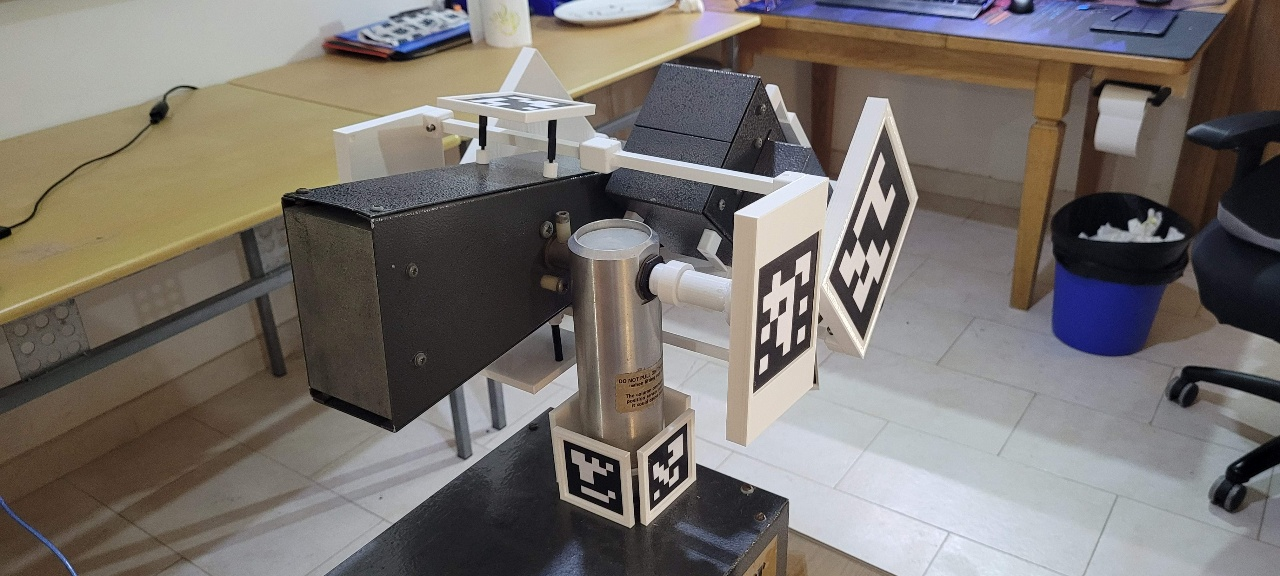Robot: (248, 1, 933, 576)
